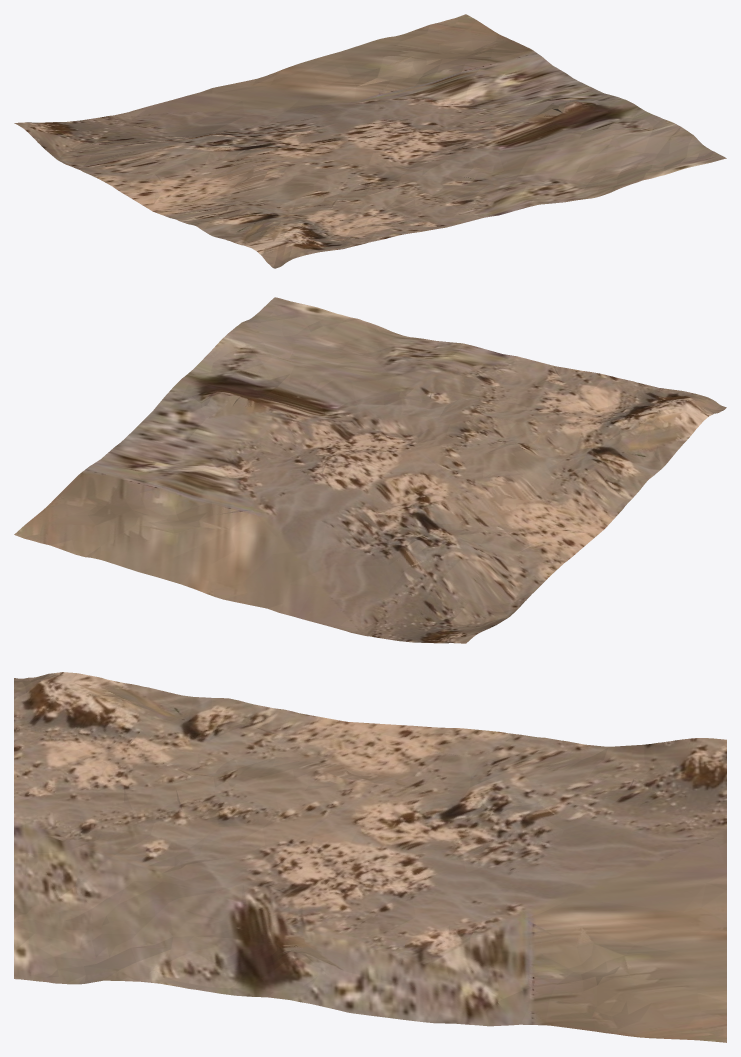
3 renders of one model, top to bottom at view 1: azimuth 30°, elevation 25°; view 2: azimuth 150°, elevation 25°; view 3: azimuth 270°, elevation 25°, orthographic. The views are drawn at different scales.
Size of the model in its own units: 2.09 by 0.3208 by 2.09.
Materials: 2 (2 with a texture image).
